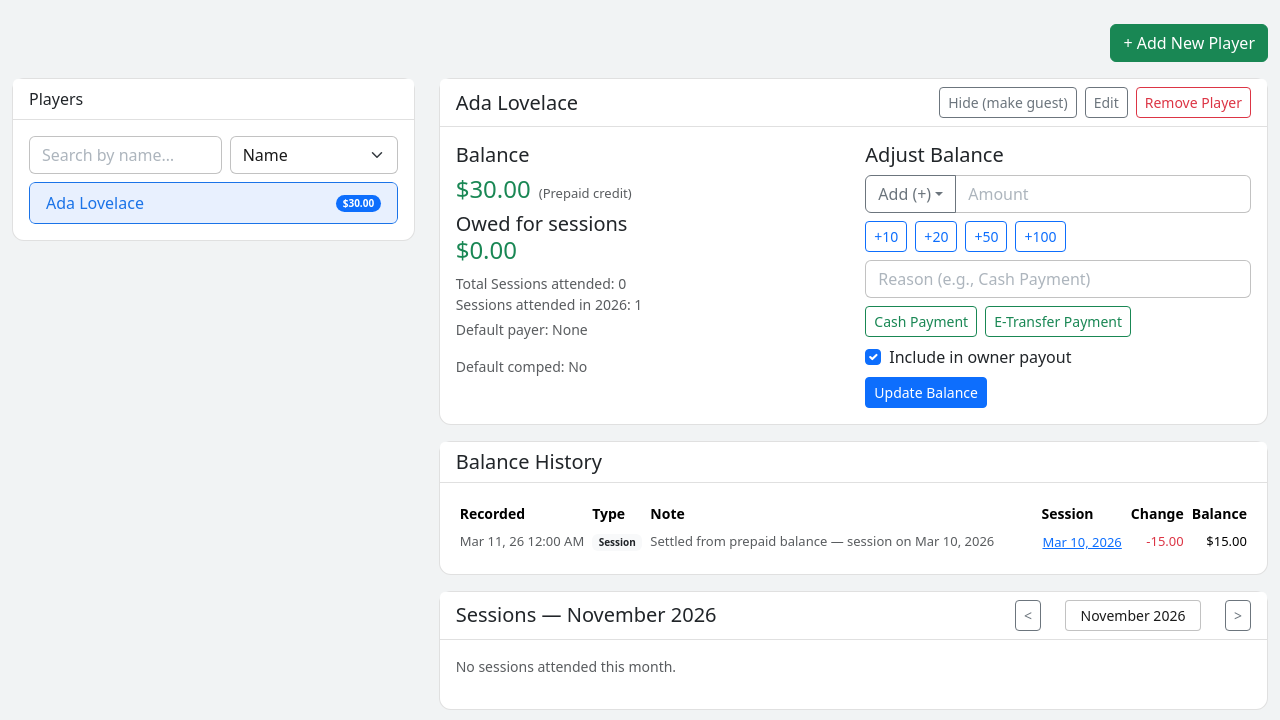
PlayersPage › opens linked balance-history sessions in a read-only popup
What coordinates should you click on to do the following:
click the button "Mar 10, 2026"
I would click on:
 (1082, 543)
Its box is [1042, 532, 1123, 554].
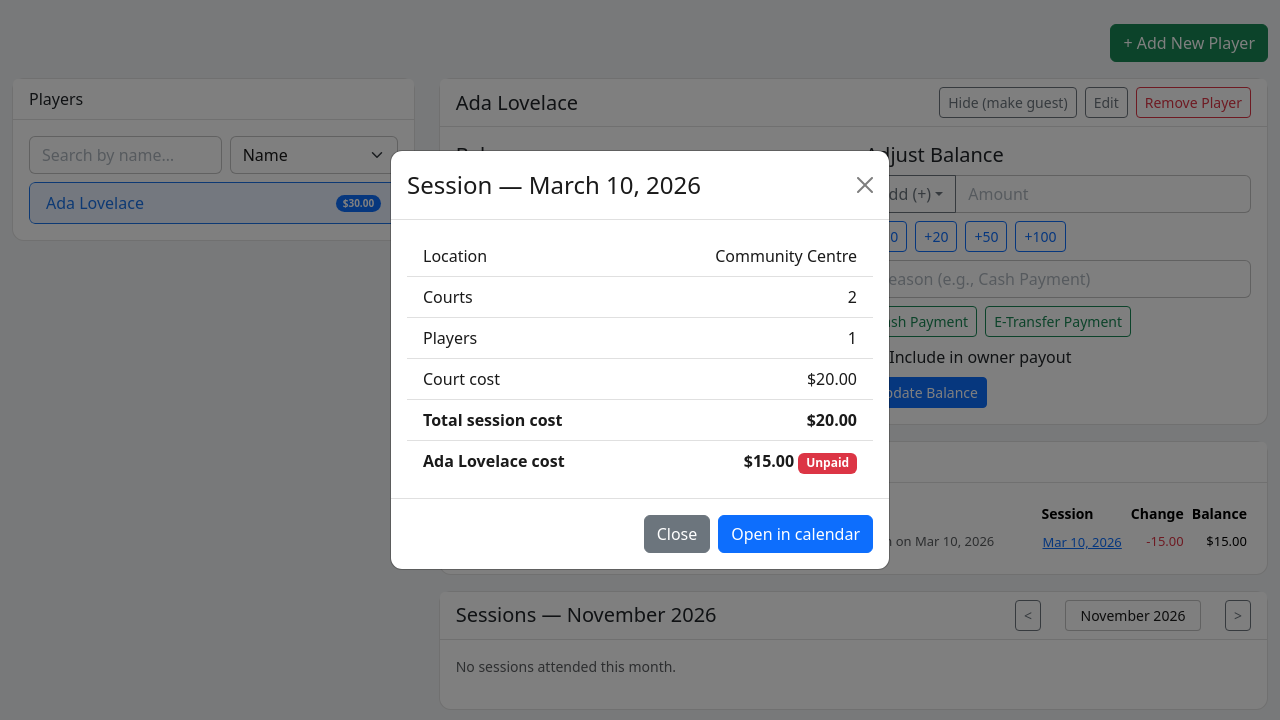
Check: the dialog is shown, box [390, 150, 890, 570]
Check: the text "Community Centre" is shown, box [715, 244, 857, 268]
Check: the text "Ada Lovelace cost" is shown, box [423, 449, 565, 474]
What coordinates should you click on to do the following:
click the button "Close"
I would click on:
 (677, 534)
Its box is [644, 515, 710, 553].
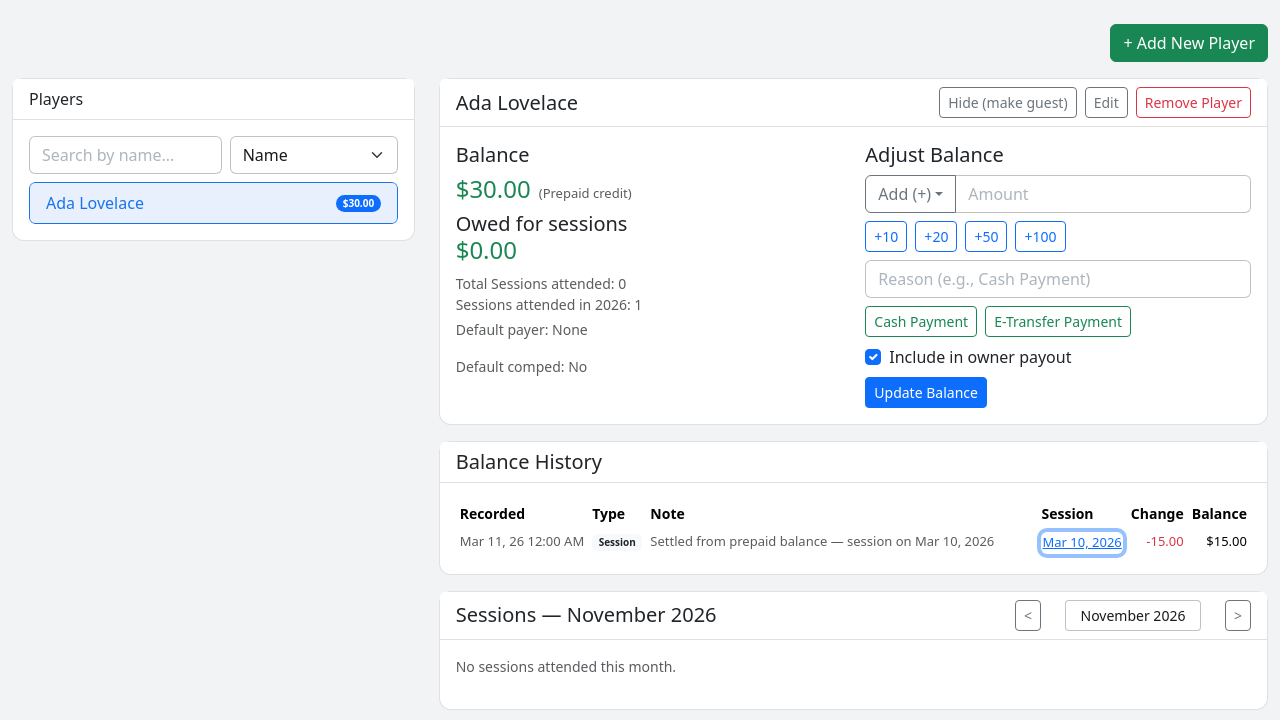
Check: the text "(Prepaid credit)" is shown, box [539, 184, 632, 202]
Check: the dialog is gone
